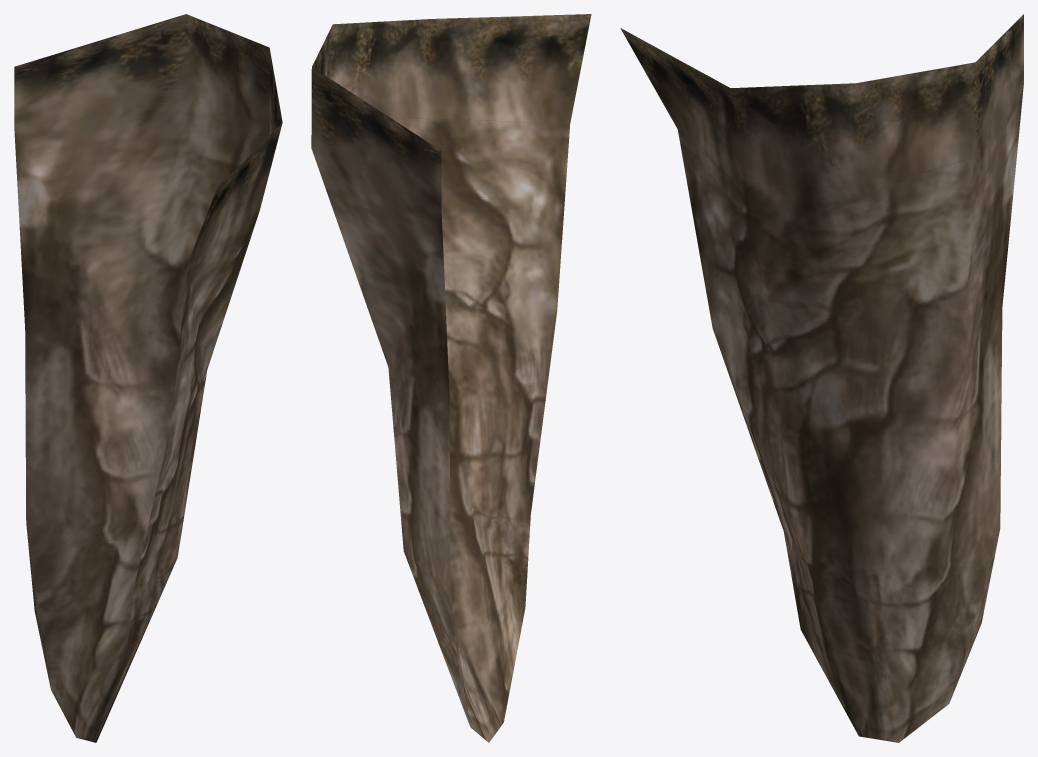
The model's file is OVERHILL_A_01_ROCK_SLAB_03.fbx.
3 renders of one model, left to right at view 1: azimuth 30°, elevation 25°; view 2: azimuth 150°, elevation 25°; view 3: azimuth 270°, elevation 25°, orthographic. The views are drawn at different scales.
Visible parts, largest first — view 1: OVERHILL_A_01_ROCK_SLAB_03; view 2: OVERHILL_A_01_ROCK_SLAB_03; view 3: OVERHILL_A_01_ROCK_SLAB_03.
Part boxes in pixels (box(x1,y1,x2,y2)): OVERHILL_A_01_ROCK_SLAB_03: box(14, 14, 282, 742); OVERHILL_A_01_ROCK_SLAB_03: box(311, 14, 591, 742); OVERHILL_A_01_ROCK_SLAB_03: box(620, 14, 1023, 742).
Bounding box in the file's own units: 18536 × 63871 × 30725.
2 materials, 2 textured.
